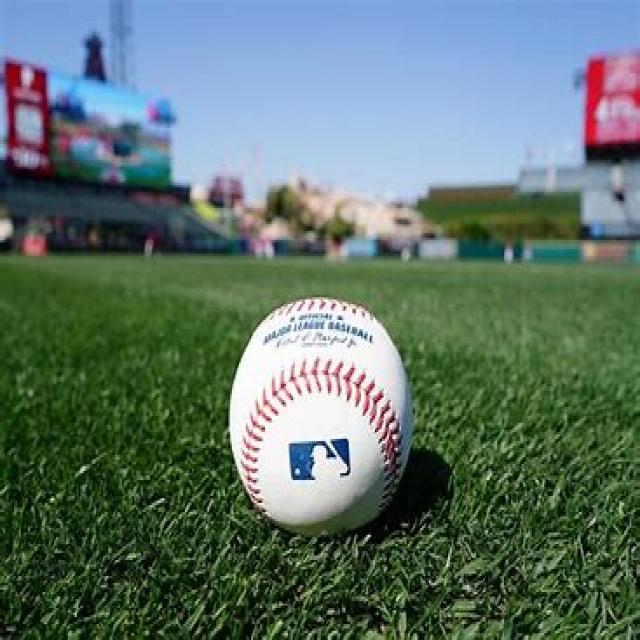ball: (227, 298, 413, 535)
